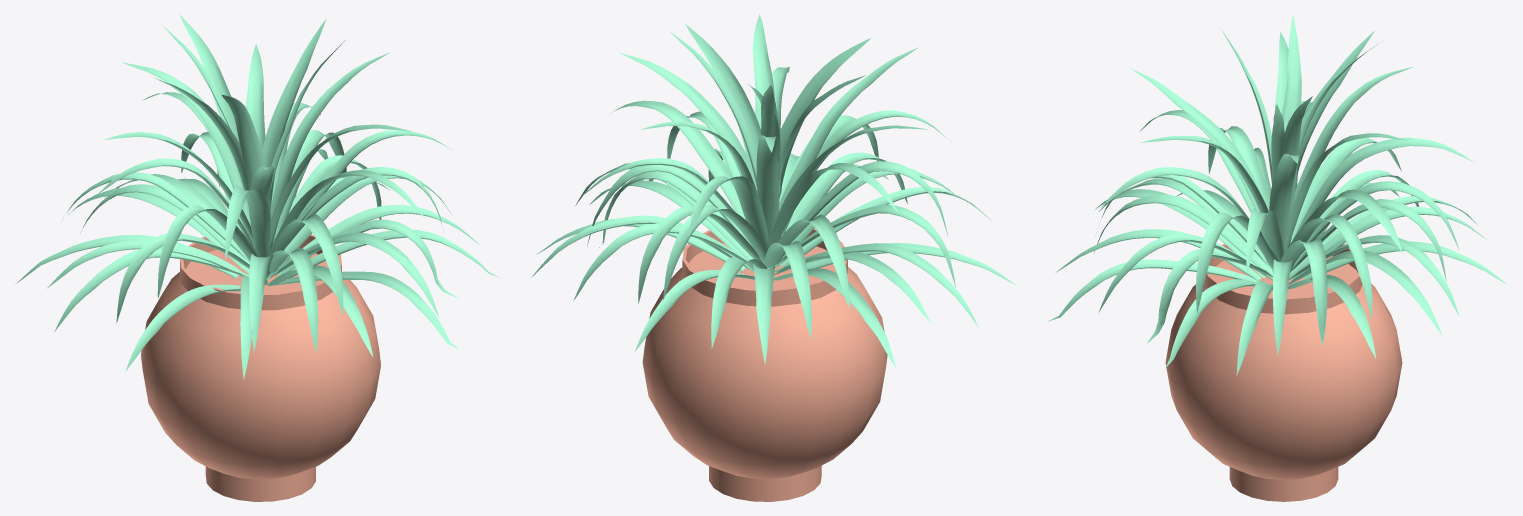
File: nice plant for GGJ.fbx
3 views of the same model, side by side, from view 1: azimuth 30°, elevation 25°; view 2: azimuth 150°, elevation 25°; view 3: azimuth 270°, elevation 25° (orthographic). The views are drawn at different scales.
Parts seen in each view (by area): view 1: pasted__Sphere, pasted__yucca_01_02_leaves_01, pasted__yucca_01_02_leaves_02; view 2: pasted__yucca_01_02_leaves_01, pasted__Sphere, pasted__yucca_01_02_leaves_02; view 3: pasted__Sphere, pasted__yucca_01_02_leaves_01, pasted__yucca_01_02_leaves_02.
Part boxes in pixels (box(x1,y1,x2,y2)): pasted__Sphere: box(141, 234, 380, 501); pasted__yucca_01_02_leaves_01: box(16, 14, 499, 379); pasted__yucca_01_02_leaves_02: box(47, 78, 459, 371); pasted__yucca_01_02_leaves_01: box(531, 14, 992, 367); pasted__Sphere: box(642, 228, 887, 501); pasted__yucca_01_02_leaves_02: box(536, 66, 1016, 322); pasted__Sphere: box(1165, 243, 1402, 501); pasted__yucca_01_02_leaves_01: box(1094, 29, 1507, 375); pasted__yucca_01_02_leaves_02: box(1047, 15, 1459, 358).
Bounding box in the file's own units: 8.78 × 8.99 × 8.85.
